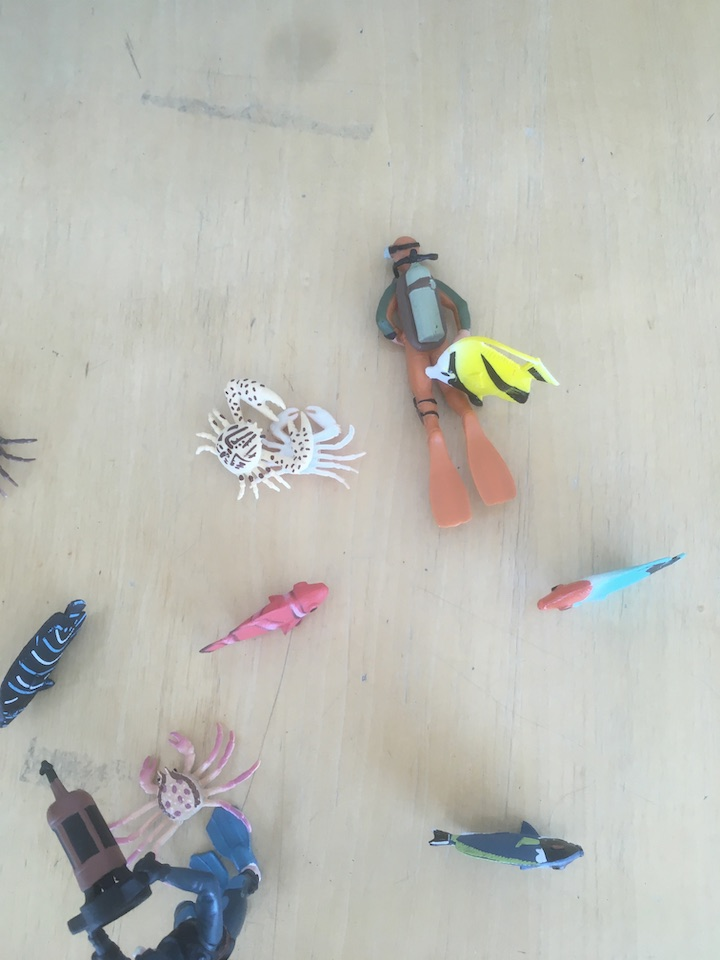crab: (88, 714, 266, 856), (185, 374, 317, 502), (236, 400, 369, 495), (1, 425, 40, 500)
danger: (419, 327, 564, 411)
diver: (34, 759, 266, 960), (376, 234, 528, 533)
fish: (1, 589, 96, 740), (191, 576, 335, 657), (529, 544, 693, 614), (423, 813, 587, 875)
